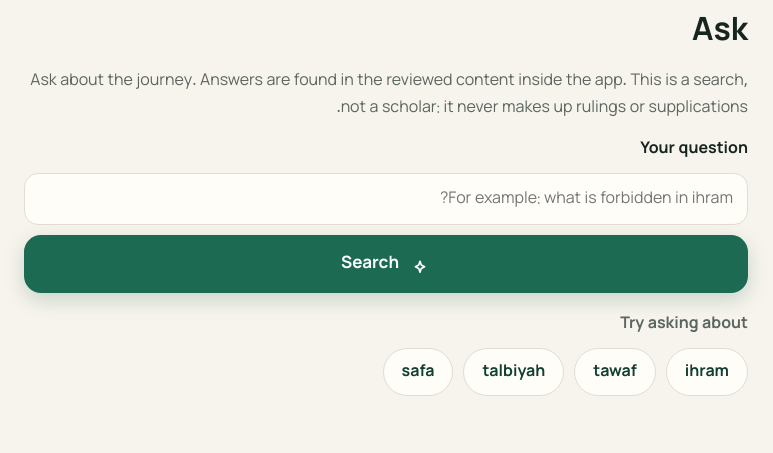
Test case: Ask screen › says when nothing matches and points to a scholar
Step 1. Type "zzzz" into the search field labelled "Your question" → (386, 199), box x1=24 y1=173 x2=748 y2=225
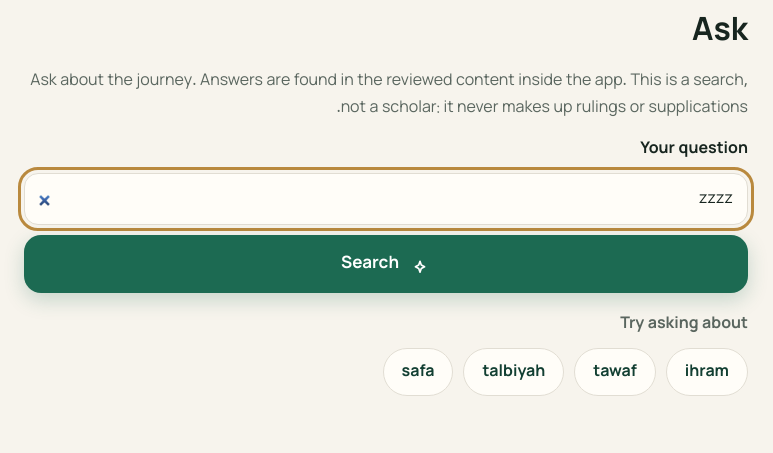
Step 2. Click the button "Search" → click(386, 264), box x1=24 y1=235 x2=748 y2=293
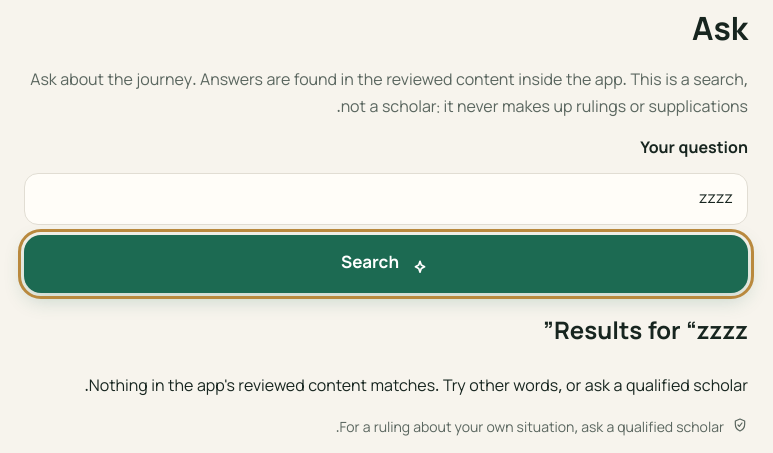
Expected: the text "Nothing in the app's reviewed content matches" is shown, x1=84 y1=374 x2=748 y2=401
